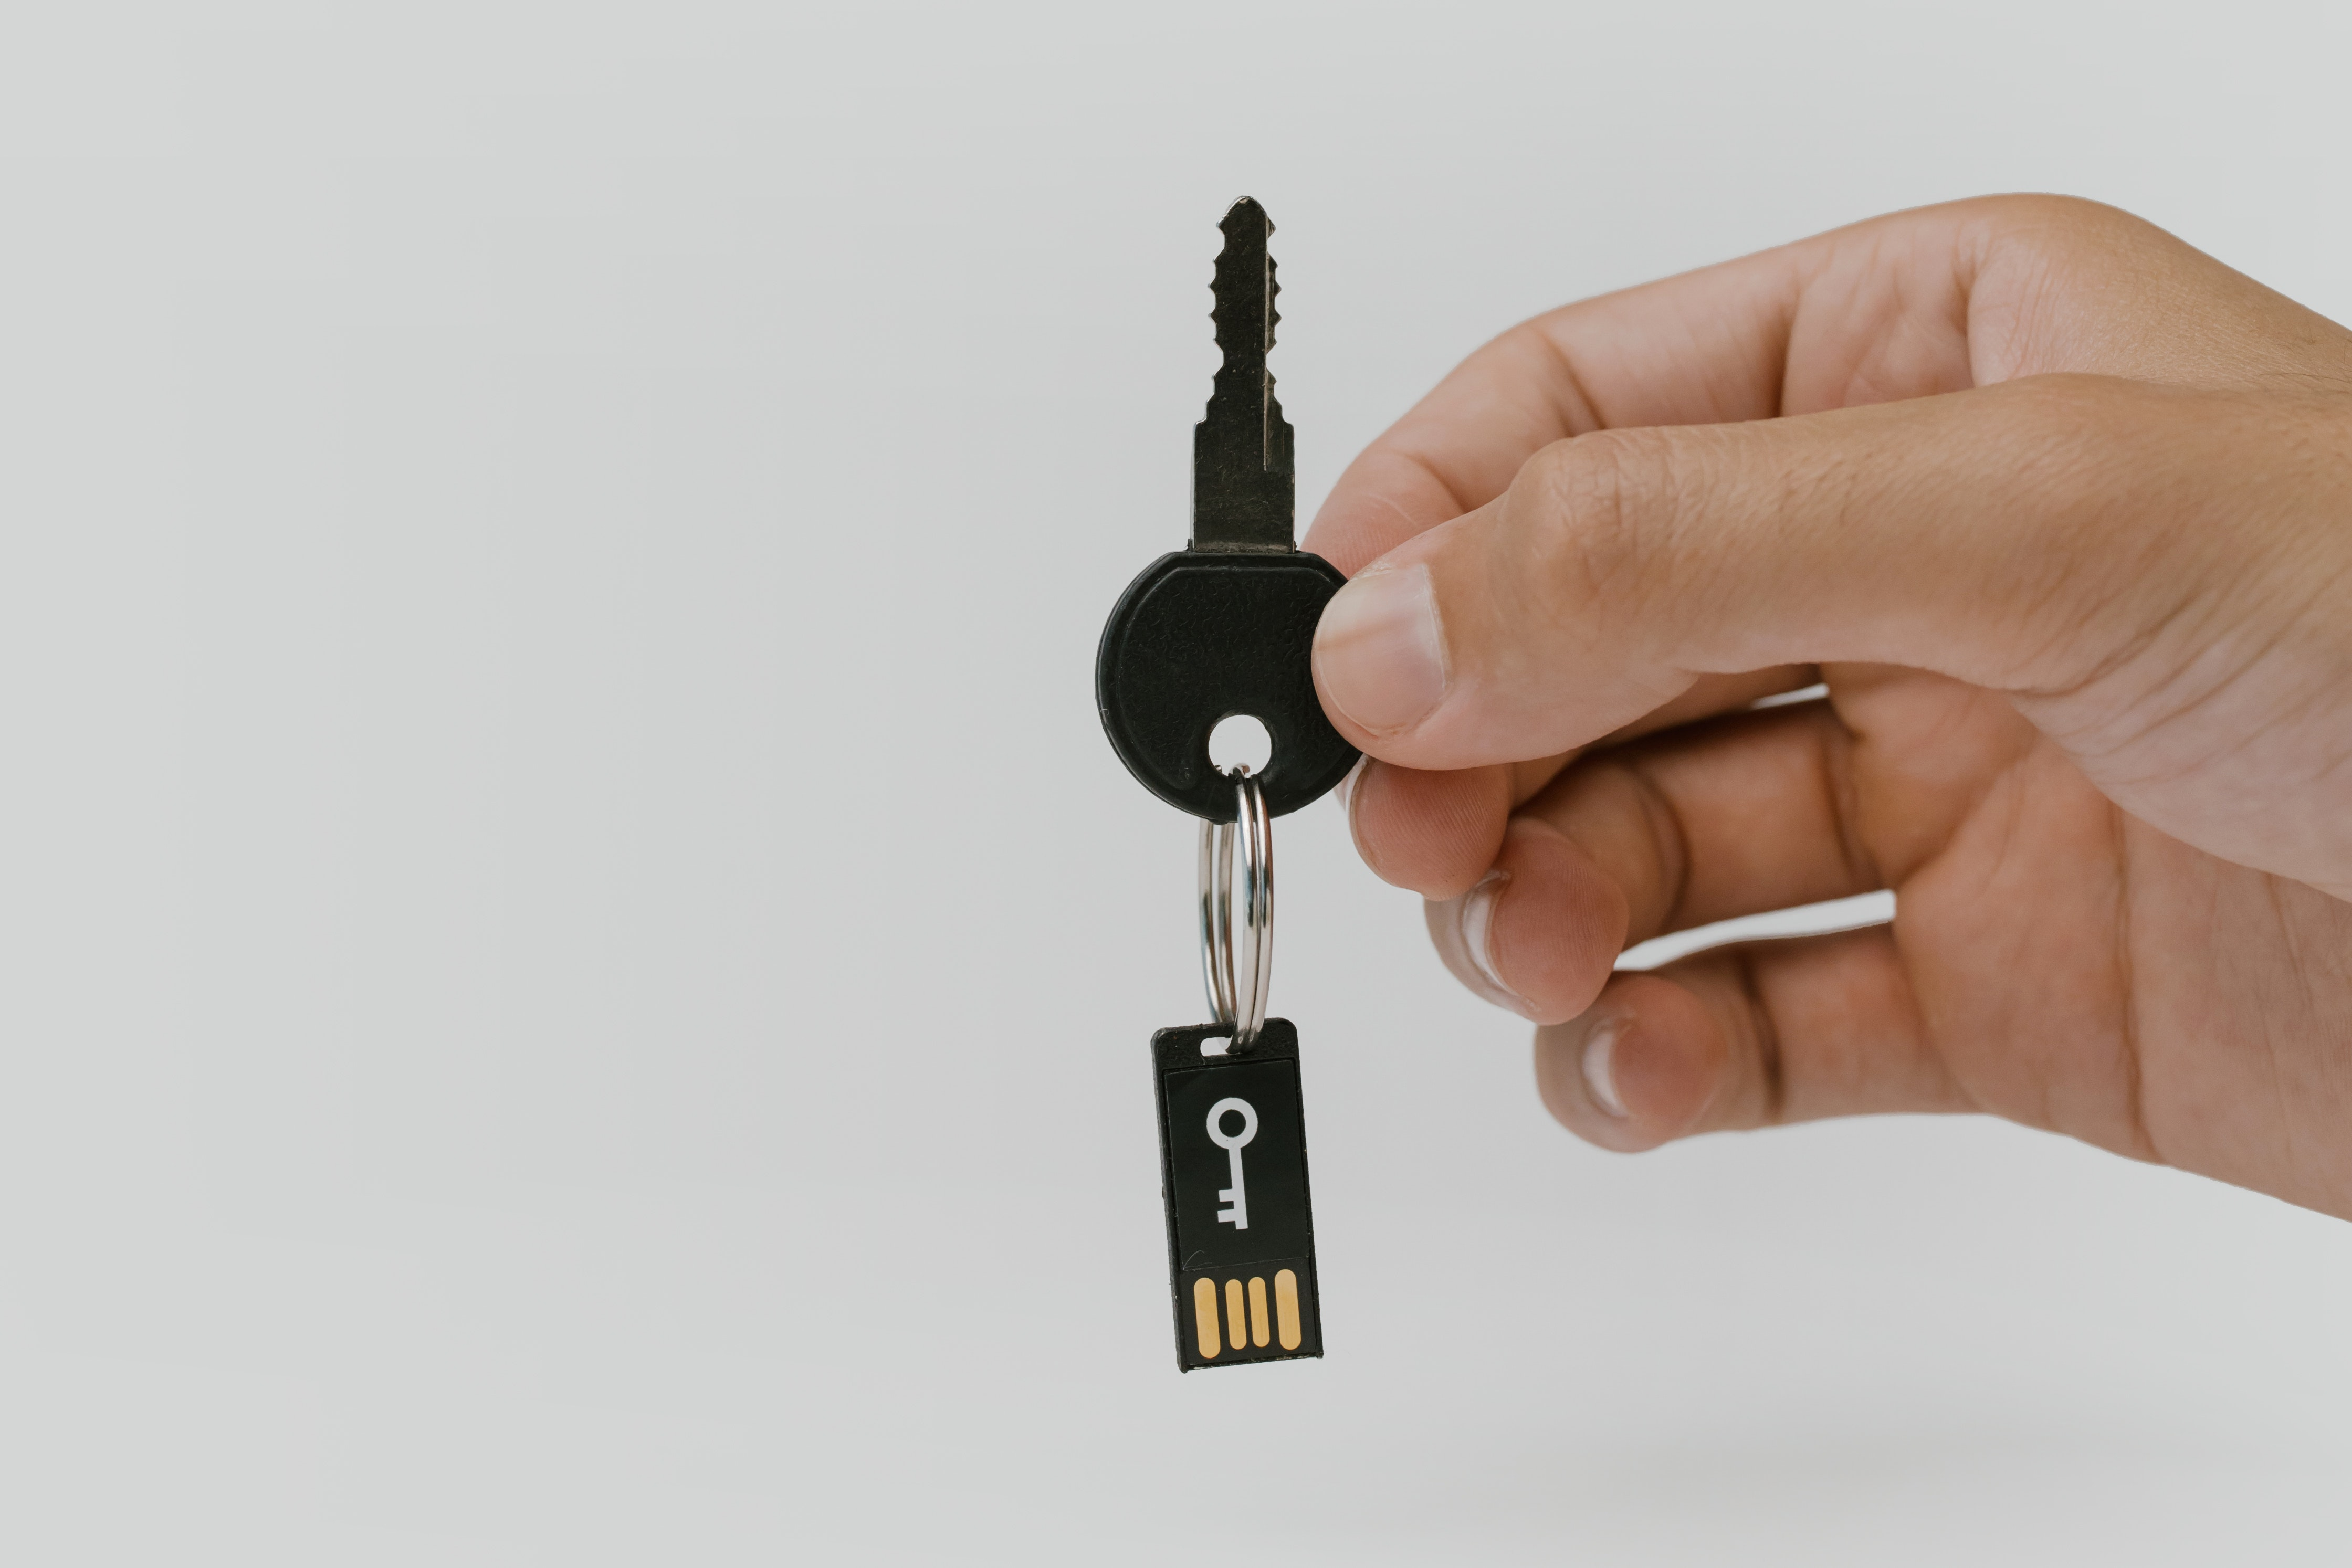key: (1079, 152, 1421, 846)
